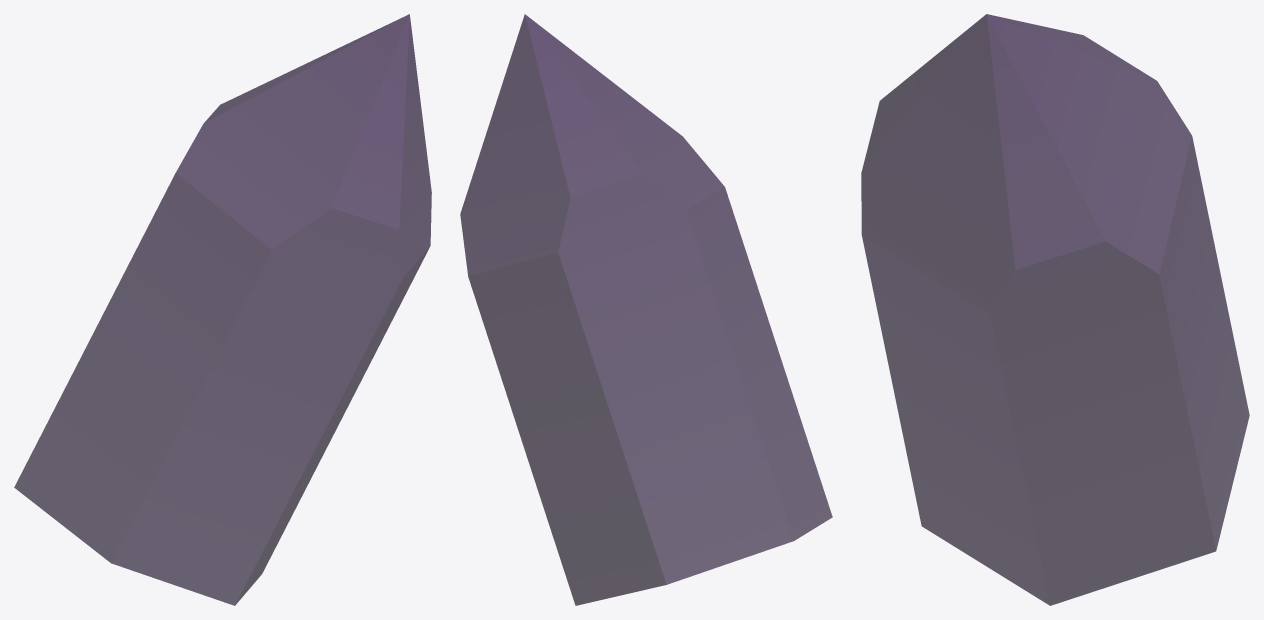
The model's file is specimen.glb.
3 renders of one model, left to right at view 1: azimuth 30°, elevation 25°; view 2: azimuth 150°, elevation 25°; view 3: azimuth 270°, elevation 25°, orthographic. The views are drawn at different scales.
Parts seen in each view (by area): view 1: amethyst-growth; view 2: amethyst-growth; view 3: amethyst-growth.
Part boxes in pixels (<box>): amethyst-growth: <box>14,14,431,605</box>; amethyst-growth: <box>460,14,832,605</box>; amethyst-growth: <box>861,14,1249,605</box>.
Bounding box in the file's own units: 0.0171 × 0.024 × 0.0127.
